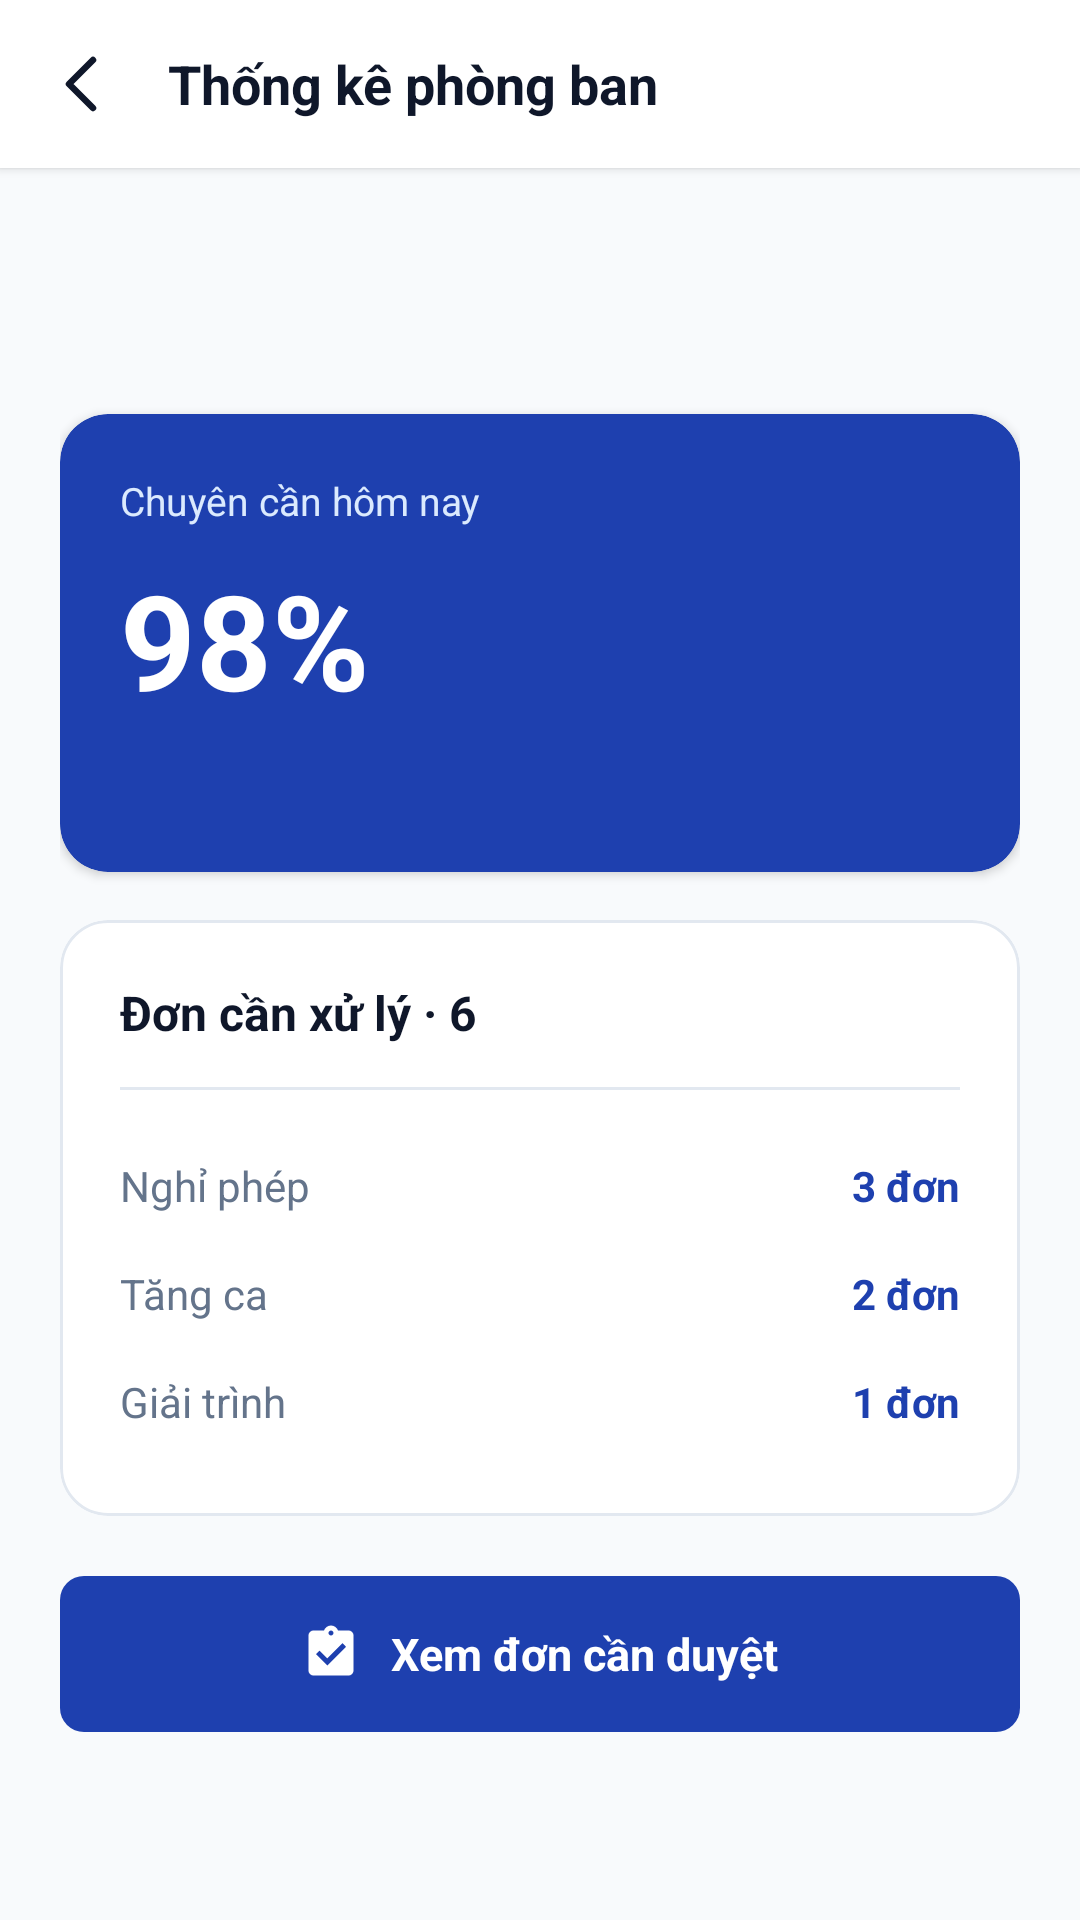

Locate icon controls on the screen. Image size 1080 × 1920, boxes as box=[x1, y1, x2, y2].
approve: box=[308, 1625, 354, 1676]
Back: box=[65, 56, 97, 112]
